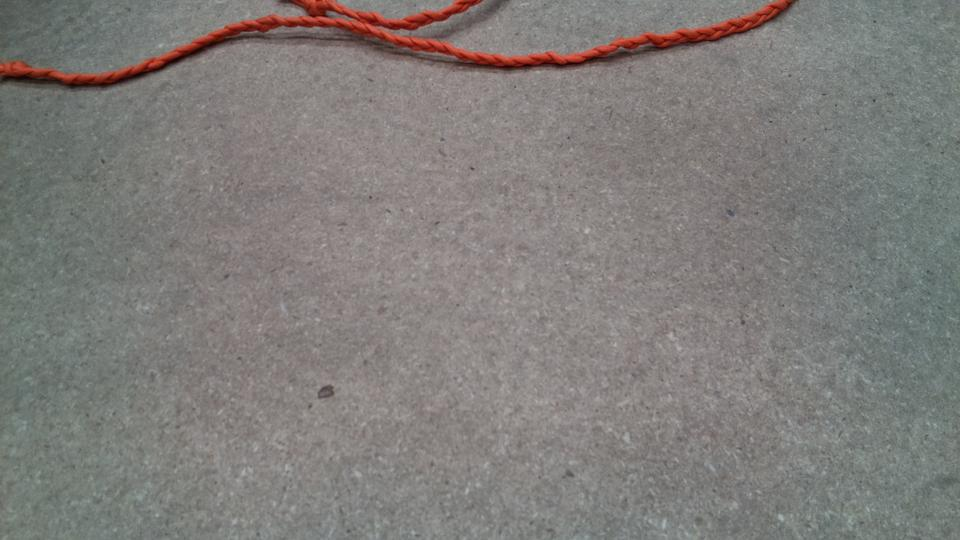rope: (1, 1, 798, 91)
